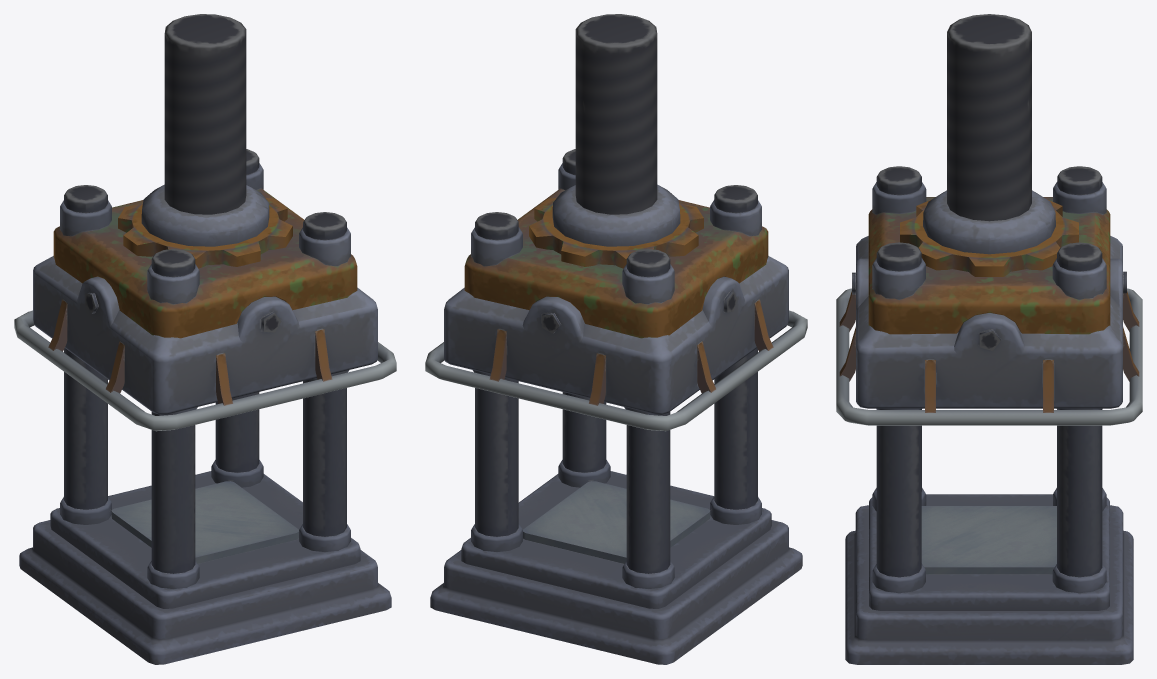
The model's file is Mesh_Press_Level3.fbx.
3 renders of one model, left to right at view 1: azimuth 30°, elevation 25°; view 2: azimuth 150°, elevation 25°; view 3: azimuth 270°, elevation 25°, orthographic. The views are drawn at different scales.
Parts seen in each view (by area): view 1: press_Level3_body, press_Level3_hammer, press_Level3_cog; view 2: press_Level3_body, press_Level3_hammer, press_Level3_cog; view 3: press_Level3_body, press_Level3_hammer, press_Level3_cog.
Part boxes in pixels (left/top/right/bottom): press_Level3_body: left=19, top=149, right=391, bottom=664; press_Level3_hammer: left=14, top=14, right=396, bottom=431; press_Level3_cog: left=118, top=198, right=292, bottom=268; press_Level3_body: left=430, top=149, right=802, bottom=664; press_Level3_hammer: left=425, top=14, right=807, bottom=431; press_Level3_cog: left=529, top=198, right=703, bottom=268; press_Level3_body: left=845, top=166, right=1133, bottom=664; press_Level3_hammer: left=836, top=14, right=1142, bottom=425; press_Level3_cog: left=900, top=199, right=1078, bottom=276.
Bounding box in the file's own units: 213 × 440 × 213.
